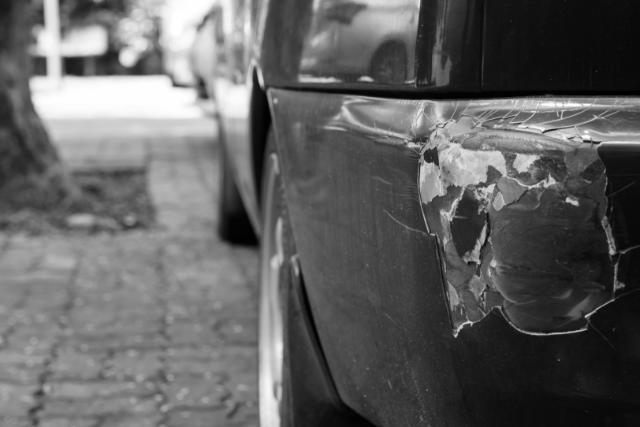Bumper: (303, 93, 640, 400)
